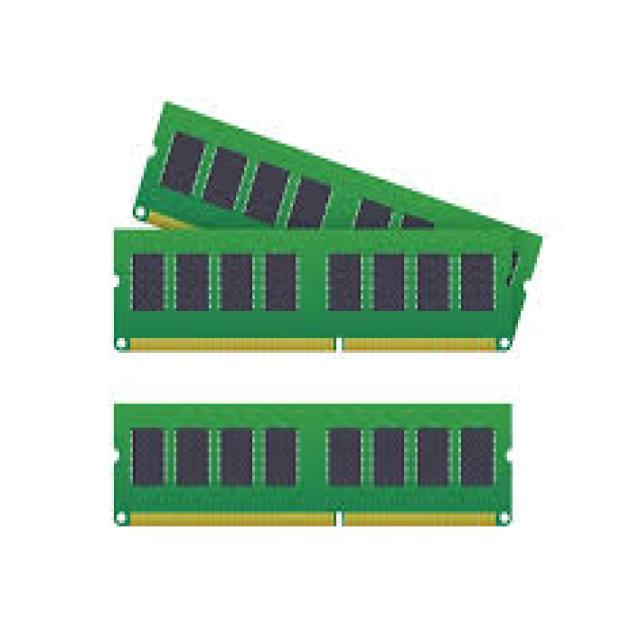Ram: (116, 69, 556, 568)
